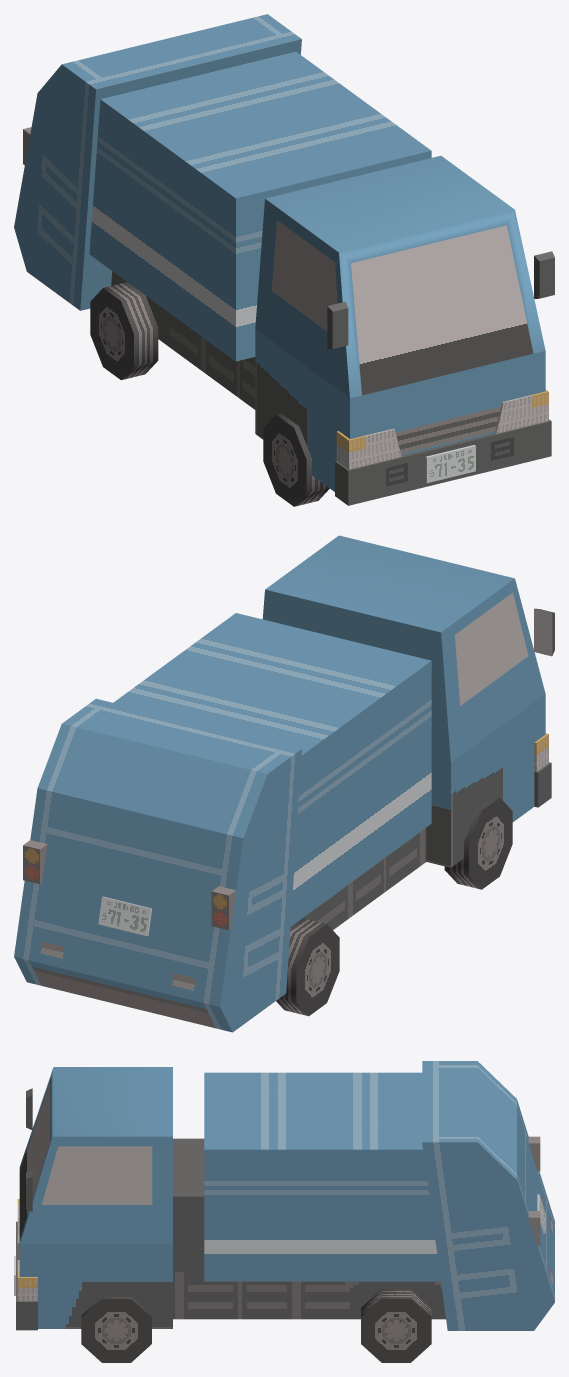
File: 0133_Garbage_Truck.glb
3 views of the same model, one above another, from view 1: azimuth 30°, elevation 25°; view 2: azimuth 150°, elevation 25°; view 3: azimuth 270°, elevation 25° (orthographic). The views are drawn at different scales.
Parts seen in each view (by area): view 1: part_0, part_2, part_1; view 2: part_0, part_2, part_1; view 3: part_0, part_2, part_1.
Boxes of the visible parts, <box> form: part_0: <box>14,14,554,505</box>; part_2: <box>90,282,158,380</box>; part_1: <box>263,413,329,506</box>; part_0: <box>14,535,554,1032</box>; part_2: <box>276,918,339,1016</box>; part_1: <box>444,796,512,889</box>; part_0: <box>14,1061,554,1330</box>; part_2: <box>361,1289,431,1362</box>; part_1: <box>81,1297,151,1362</box>.
Bounding box in the file's own units: 2.02 × 2.34 × 5.2.
3 materials, 3 textured.
